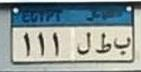1: (21, 31, 32, 59), (52, 31, 62, 58), (37, 32, 47, 58)
Taa: (95, 32, 112, 55)
baa: (113, 35, 132, 57)
laam: (76, 31, 92, 56)
